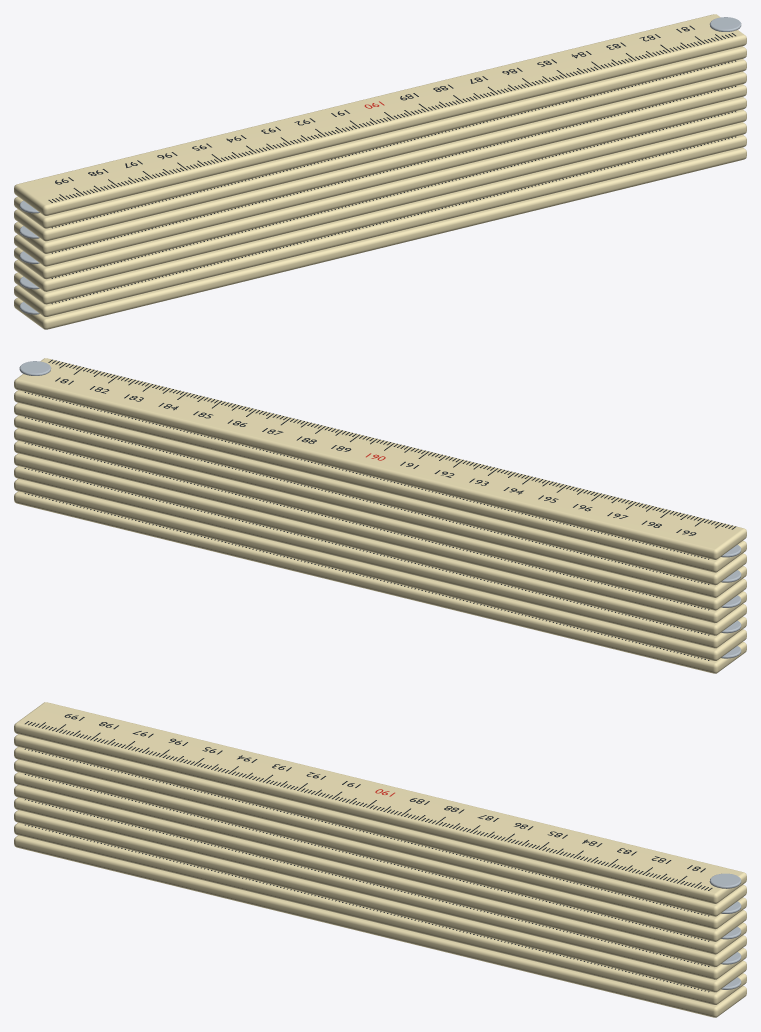
File: 05_folding_ruler.glb
3 renders of one model, top to bottom at view 1: azimuth 30°, elevation 25°; view 2: azimuth 150°, elevation 25°; view 3: azimuth 330°, elevation 25°, orthographic.
Visible parts, largest first — view 1: Segment_10, Segment_09, Segment_06, Segment_03, Segment_05, Segment_02, Segment_08, Segment_07, Segment_01, Segment_04; view 2: Segment_10, Segment_09, Segment_06, Segment_03, Segment_05, Segment_02, Segment_08, Segment_07, Segment_01, Segment_04; view 3: Segment_10, Segment_09, Segment_06, Segment_03, Segment_05, Segment_02, Segment_08, Segment_07, Segment_01, Segment_04.
Part boxes in pixels (x1,y1,x2,y2): Segment_10: [14, 14, 746, 215]; Segment_09: [14, 46, 746, 228]; Segment_06: [14, 84, 746, 266]; Segment_03: [14, 122, 746, 304]; Segment_05: [14, 97, 746, 279]; Segment_02: [14, 134, 746, 316]; Segment_08: [14, 59, 746, 241]; Segment_07: [14, 71, 746, 253]; Segment_01: [14, 147, 746, 329]; Segment_04: [14, 109, 746, 291]; Segment_10: [14, 358, 746, 559]; Segment_09: [14, 390, 746, 572]; Segment_06: [14, 428, 746, 610]; Segment_03: [14, 466, 746, 648]; Segment_05: [14, 441, 746, 623]; Segment_02: [14, 478, 746, 660]; Segment_08: [14, 403, 746, 585]; Segment_07: [14, 415, 746, 597]; Segment_01: [14, 491, 746, 673]; Segment_04: [14, 453, 746, 635]; Segment_10: [14, 702, 746, 903]; Segment_09: [14, 734, 746, 916]; Segment_06: [14, 772, 746, 954]; Segment_03: [14, 810, 746, 992]; Segment_05: [14, 785, 746, 967]; Segment_02: [14, 822, 746, 1004]; Segment_08: [14, 747, 746, 929]; Segment_07: [14, 759, 746, 941]; Segment_01: [14, 835, 746, 1017]; Segment_04: [14, 797, 746, 979].
Size of the model in its own units: 0.208 by 0.0351 by 0.016.
